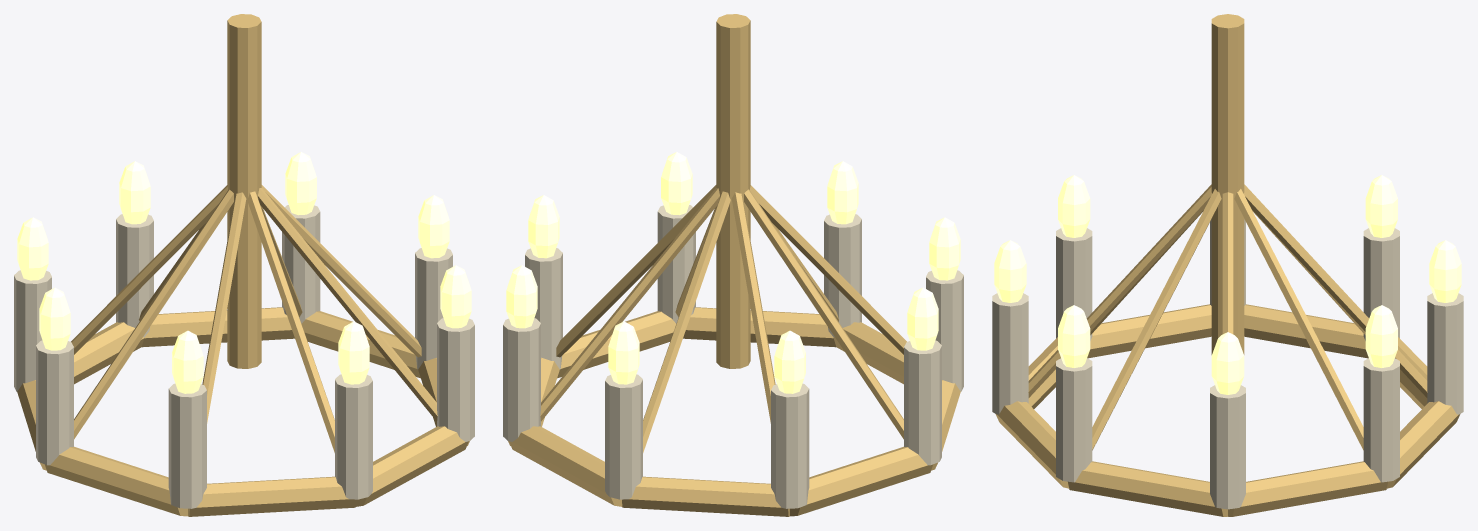
File: crypt_chandelier.glb
The picture shows the model from 3 angles, left to right: view 1: azimuth 30°, elevation 25°; view 2: azimuth 150°, elevation 25°; view 3: azimuth 270°, elevation 25°; orthographic projection.
Size of the model in its own units: 0.696 by 0.655 by 0.6933.
